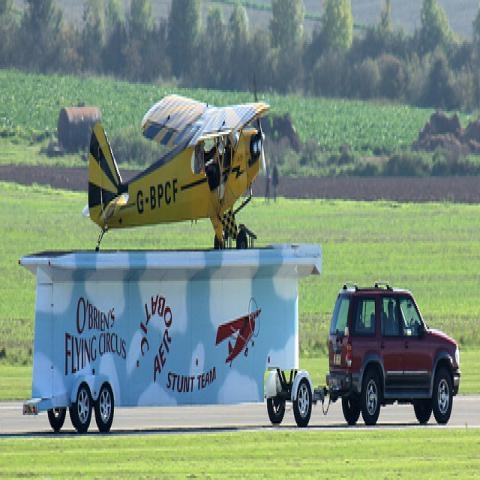car: (327, 286, 460, 432)
